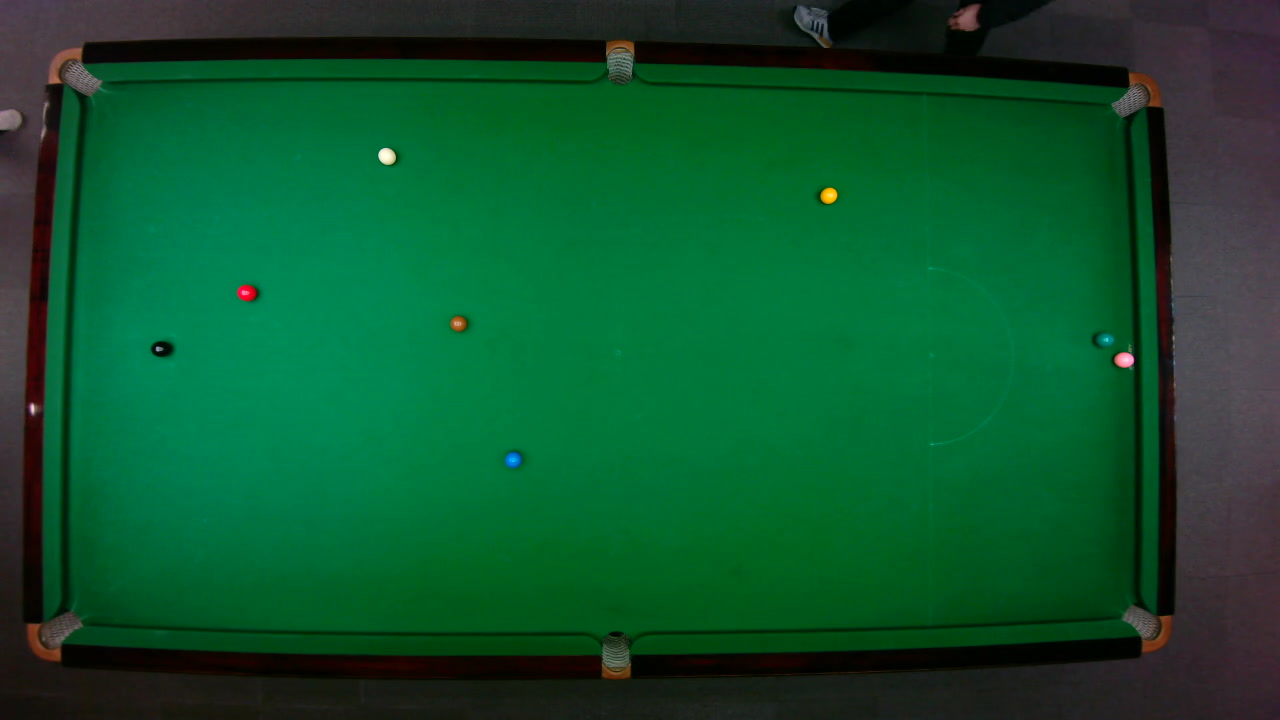bag: (24, 609, 83, 662), (45, 46, 102, 96), (1119, 603, 1171, 652), (1108, 71, 1161, 118), (600, 629, 629, 680), (605, 38, 633, 85)
black: (149, 339, 171, 357)
blue: (504, 450, 522, 468)
brown: (449, 314, 467, 331)
green: (1093, 330, 1114, 347)
pink: (1112, 350, 1135, 368)
red: (235, 283, 257, 301)
white: (376, 146, 397, 165)
yellow: (818, 185, 838, 204)
zone: (927, 266, 1013, 445)
